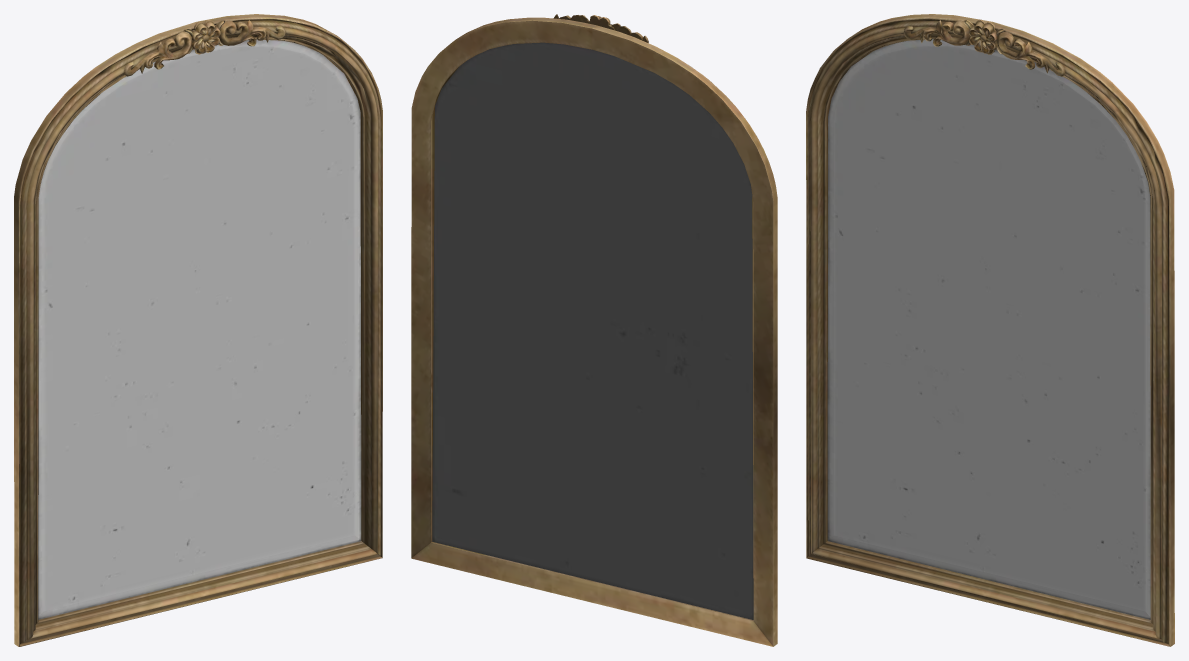
File: ornate_mirror_01.glb
The picture shows the model from 3 angles, left to right: view 1: azimuth 30°, elevation 25°; view 2: azimuth 150°, elevation 25°; view 3: azimuth 330°, elevation 25°; orthographic projection.
Parts seen in each view (by area): view 1: ornate_mirror_01; view 2: ornate_mirror_01; view 3: ornate_mirror_01.
Part boxes in pixels (x1,y1,x2,y2): ornate_mirror_01: (14,14,382,646); ornate_mirror_01: (411,14,777,646); ornate_mirror_01: (806,14,1174,646).
Size of the model in its own units: 0.4857 by 0.7437 by 0.026.
1 material, 1 textured.
